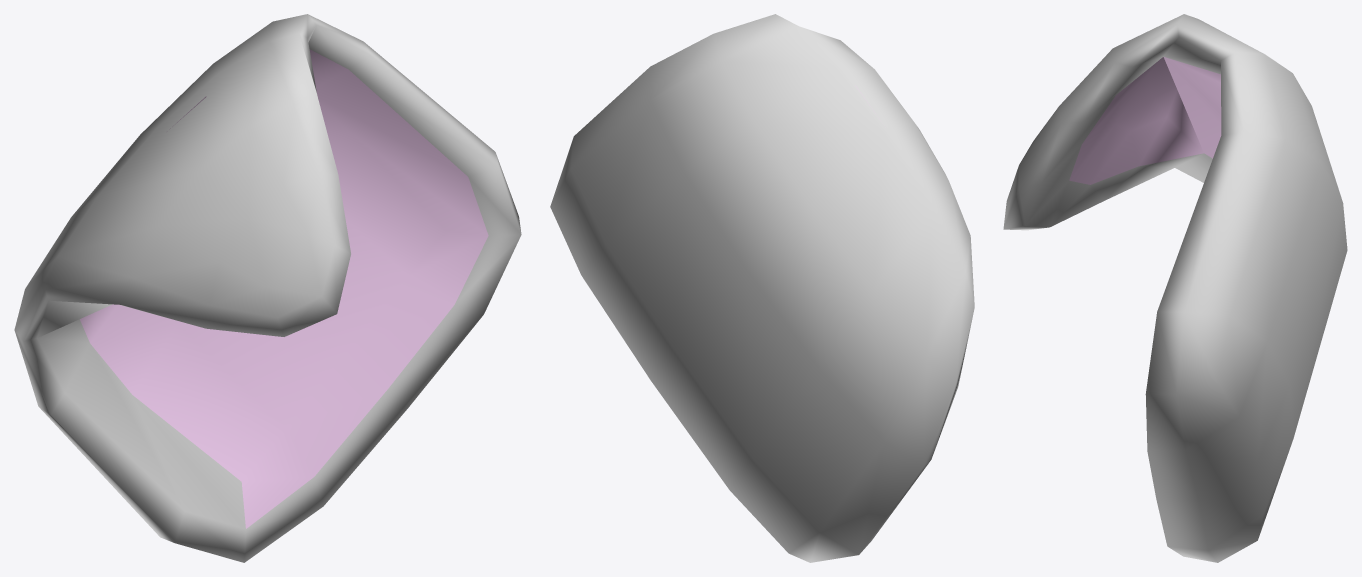
The model's file is Folded.fbx.
3 views of the same model, side by side, from view 1: azimuth 30°, elevation 25°; view 2: azimuth 150°, elevation 25°; view 3: azimuth 270°, elevation 25° (orthographic). The views are drawn at different scales.
Parts seen in each view (by area): view 1: Folded; view 2: Folded; view 3: Folded.
Boxes of the visible parts, x1,y1,x2,y2 form: Folded: (14, 14, 521, 562); Folded: (550, 14, 974, 562); Folded: (1003, 14, 1347, 562).
Size of the model in its own units: 0.62 by 0.6876 by 0.3782.
